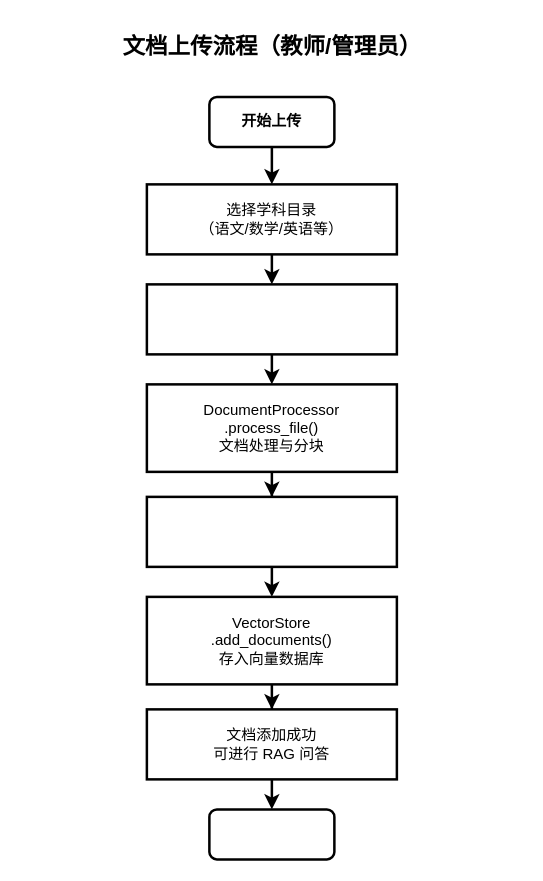
This 543x881 diagram has some shape labels left out. Each missing label, with the box of its shape:
上传 PDF/DOCX 文件 侧边栏上传组件: (145, 282, 398, 355)
生成向量嵌入 调用 Embedding API: (145, 495, 398, 568)
结束: (208, 808, 335, 860)
